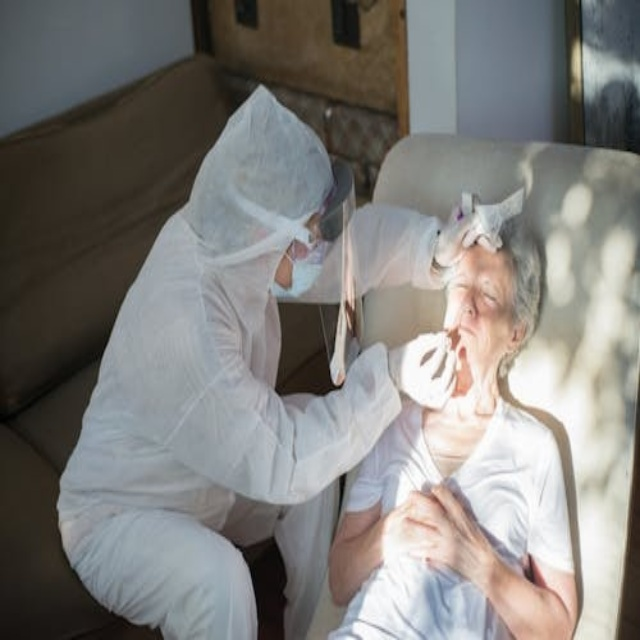Guantes: (387, 324, 460, 418), (429, 180, 508, 263)
Mascara: (283, 220, 342, 305)
Sin_gafas: (448, 263, 513, 312)
Sin_guantes: (384, 454, 484, 594)
Sin_mascara: (451, 316, 476, 347)
